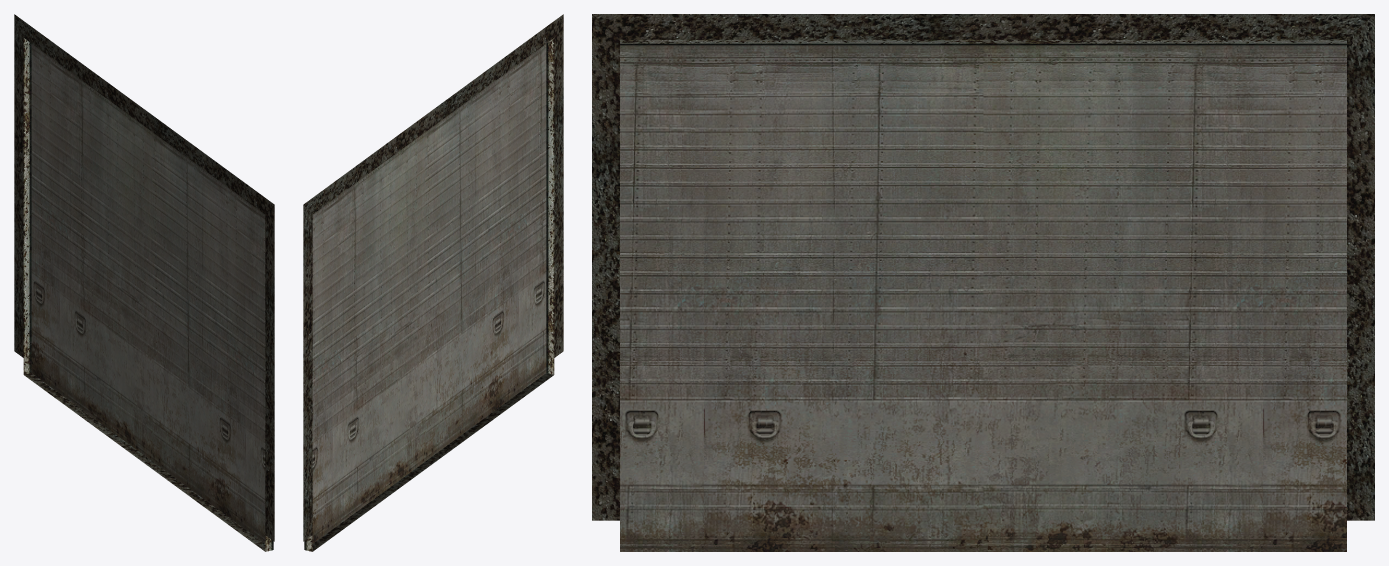
The model's file is garage_door2.fbx.
3 views of the same model, side by side, from view 1: azimuth 30°, elevation 25°; view 2: azimuth 150°, elevation 25°; view 3: azimuth 270°, elevation 25° (orthographic). The views are drawn at different scales.
Parts seen in each view (by area): view 1: garage_door2.001; view 2: garage_door2.001; view 3: garage_door2.001.
Part boxes in pixels (x1=…): garage_door2.001: x1=14, y1=14, x2=274, y2=551; garage_door2.001: x1=303, y1=14, x2=563, y2=551; garage_door2.001: x1=592, y1=14, x2=1374, y2=551.
Bounding box in the file's own units: 0.102 × 4.28 × 5.71.
Materials: 2 (2 with a texture image).
